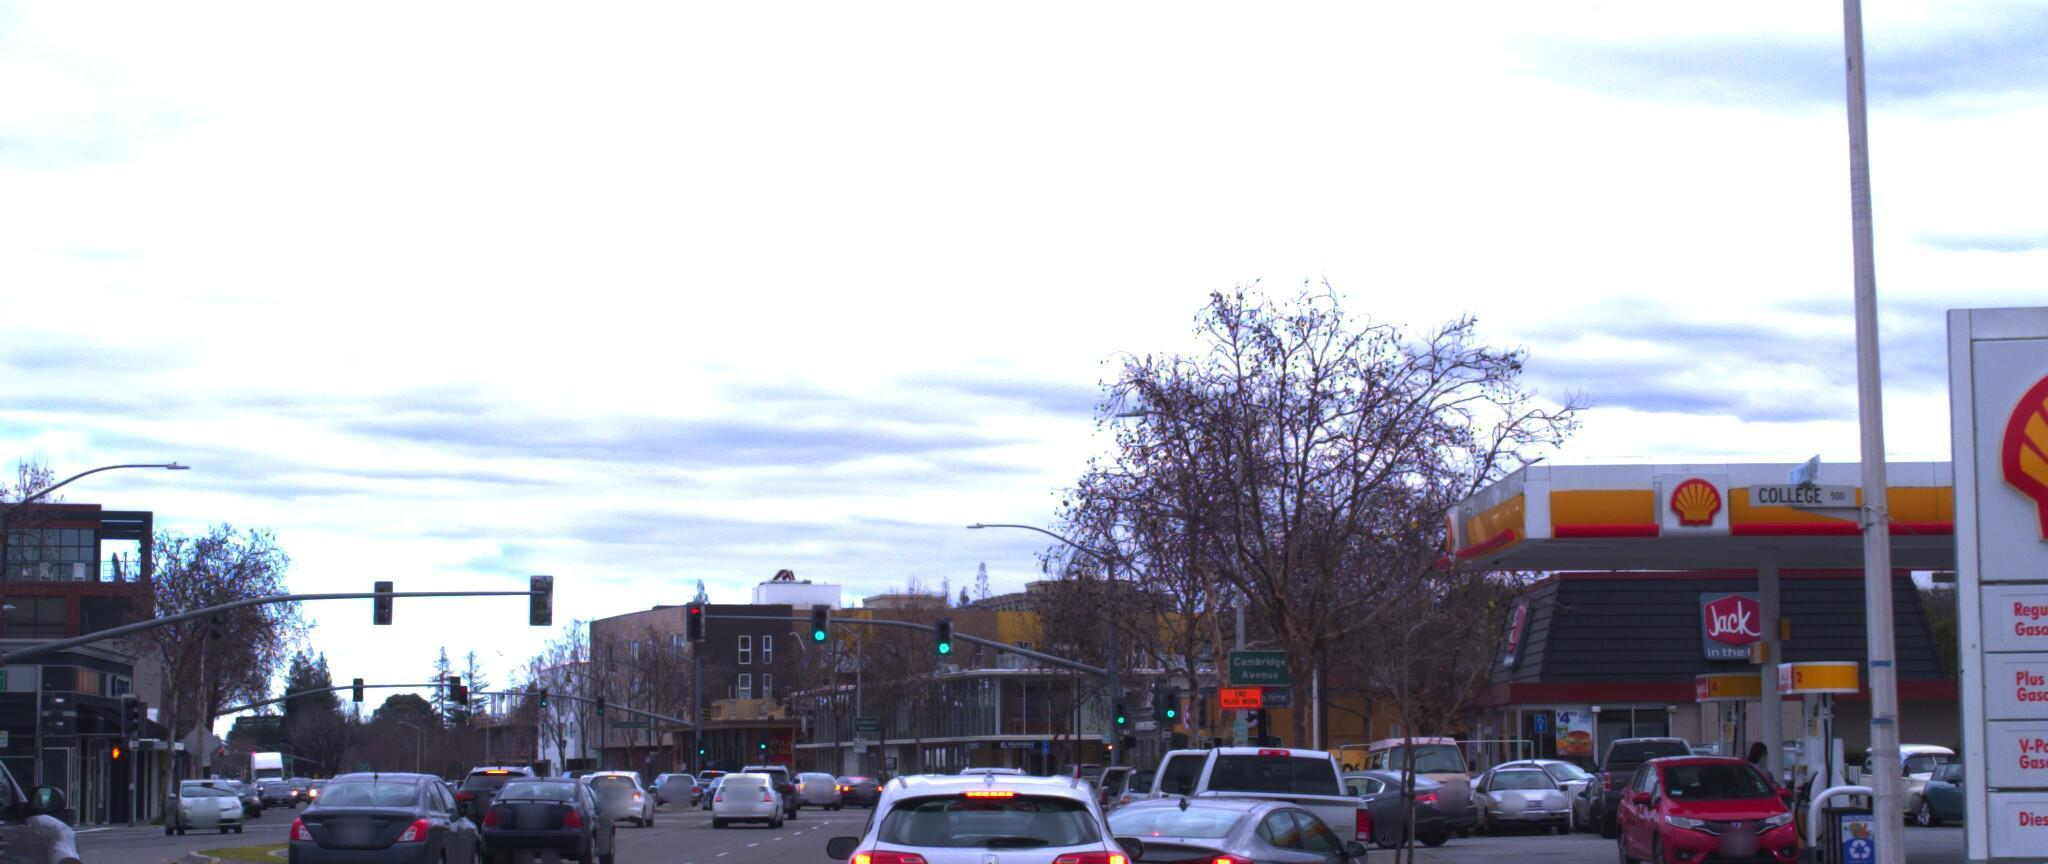car: (805, 760, 1142, 864), (1036, 777, 1400, 864), (1159, 723, 1371, 864), (1590, 736, 1789, 864), (1874, 720, 2048, 864), (272, 761, 498, 864), (0, 673, 108, 864), (1131, 727, 1284, 860), (468, 730, 630, 855), (1347, 715, 1479, 820), (1574, 718, 1708, 818), (1836, 726, 1988, 807), (1460, 747, 1566, 817), (1085, 743, 1173, 817), (575, 744, 666, 804), (713, 753, 789, 813)
